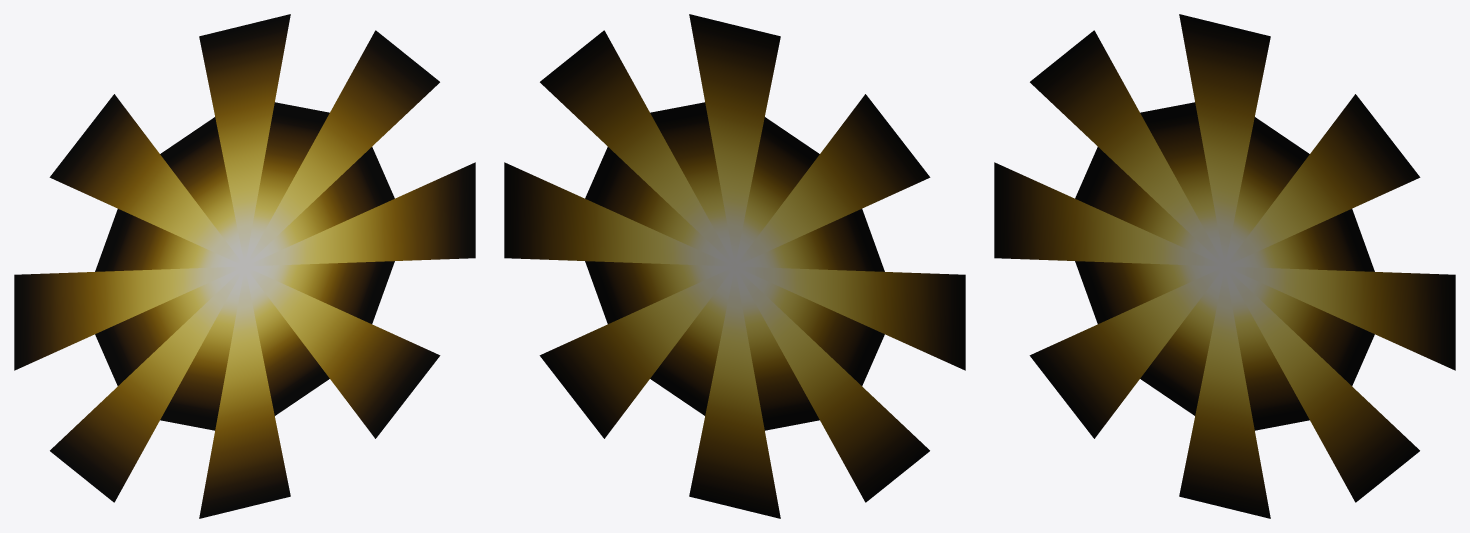
Rendered from CelebrationPopup.glb.
3 views of the same model, side by side, from view 1: azimuth 30°, elevation 25°; view 2: azimuth 150°, elevation 25°; view 3: azimuth 330°, elevation 25° (orthographic).
Visible parts, largest first — view 1: mysteryBox_glowEFX; view 2: mysteryBox_glowEFX; view 3: mysteryBox_glowEFX.
Part boxes in pixels (x1=…): mysteryBox_glowEFX: x1=14, y1=14, x2=475, y2=518; mysteryBox_glowEFX: x1=504, y1=14, x2=965, y2=518; mysteryBox_glowEFX: x1=994, y1=14, x2=1455, y2=518.
Size of the model in its own units: 403 by 403 by 0.
1 material, 1 textured.
